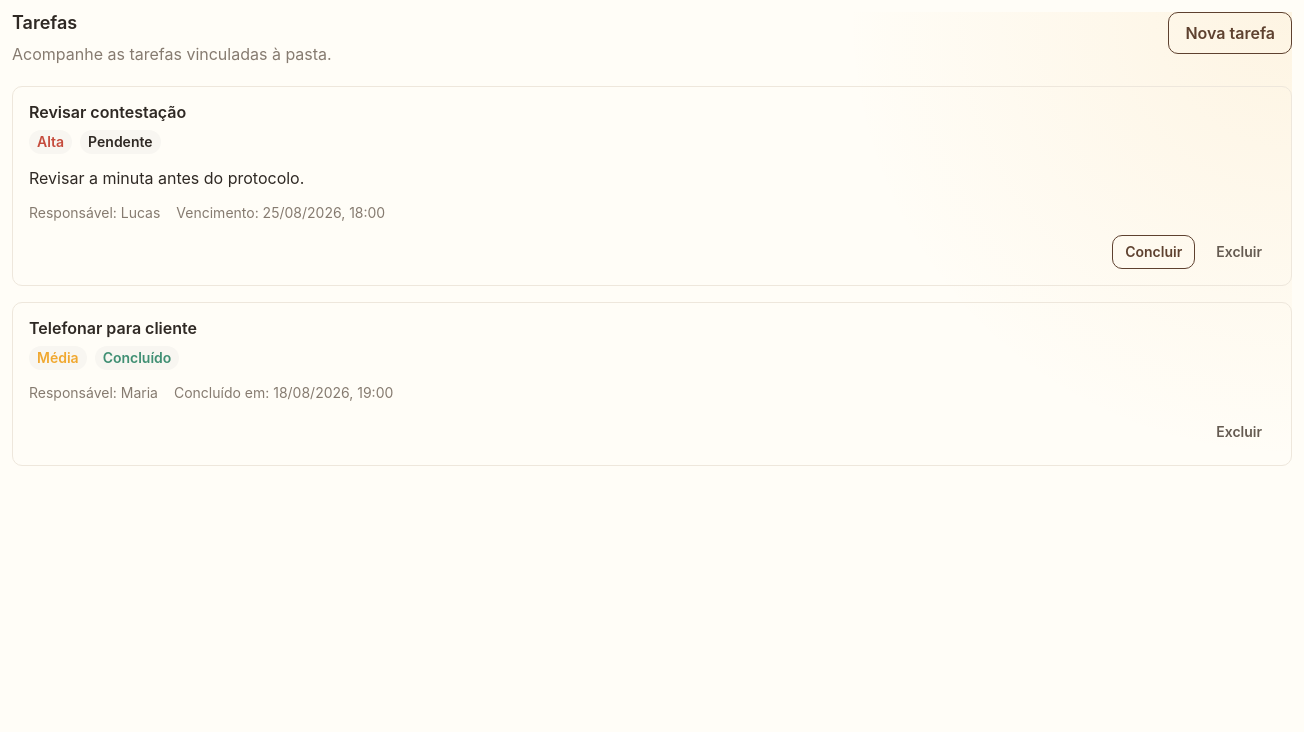
Test case: FolderTasks › exibe erro quando criação da tarefa falha
Click the button "Nova tarefa": (1230,33) [1168,12,1292,54]
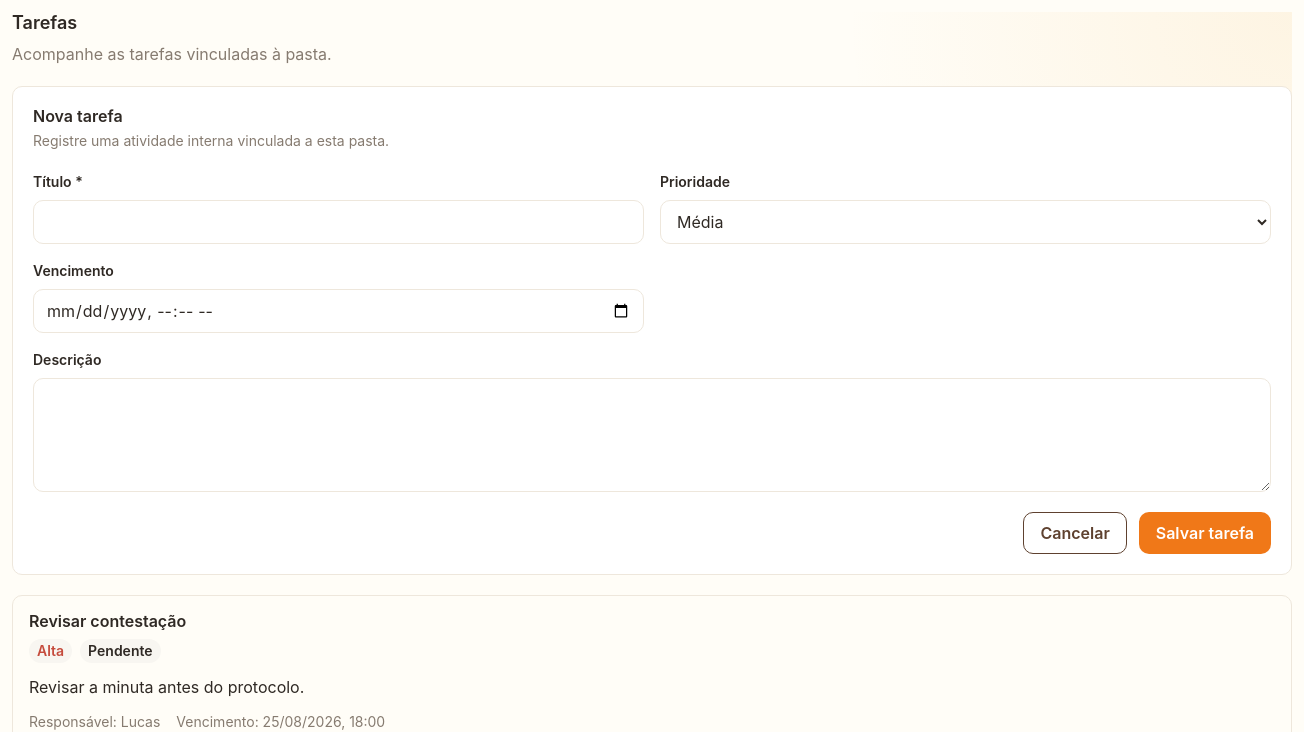
In the field named "title": (338,222) [33,200,644,244], type "Preparar recurso"
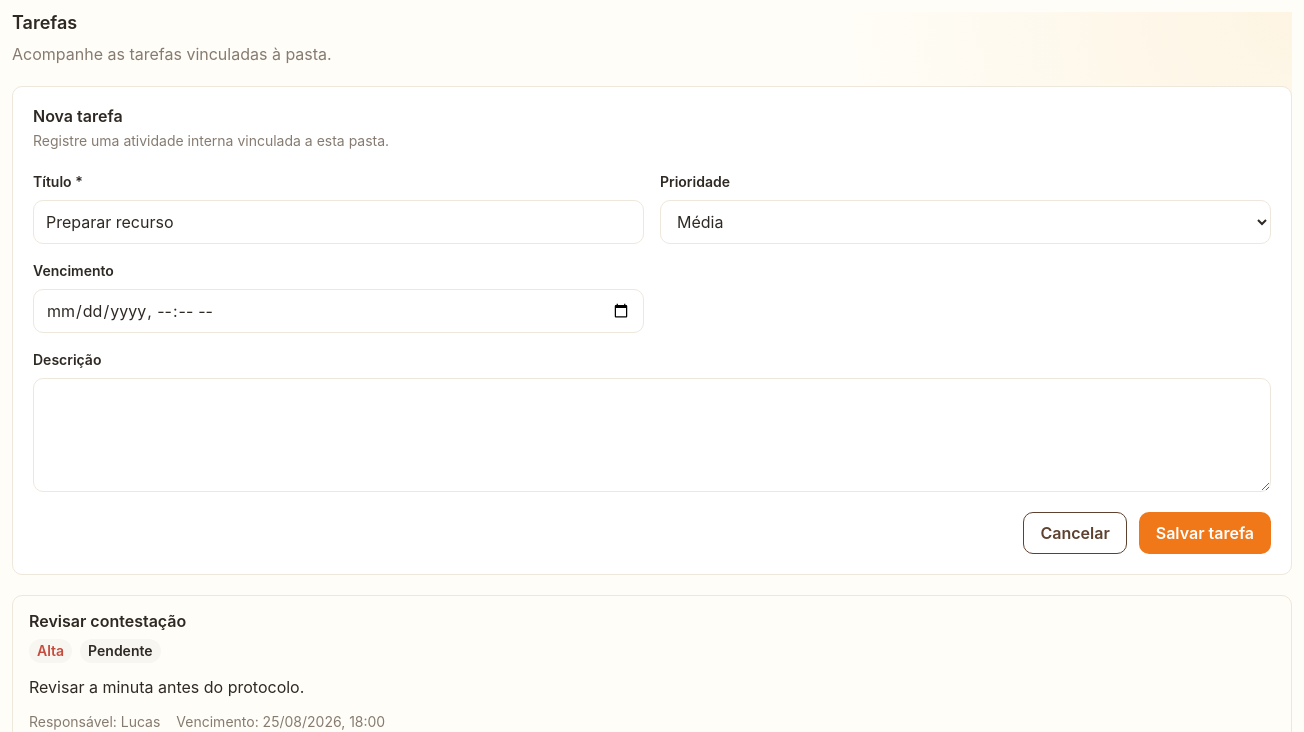
Select "Alta" in the dropdown named "priority": (966,222) [660,200,1271,244]
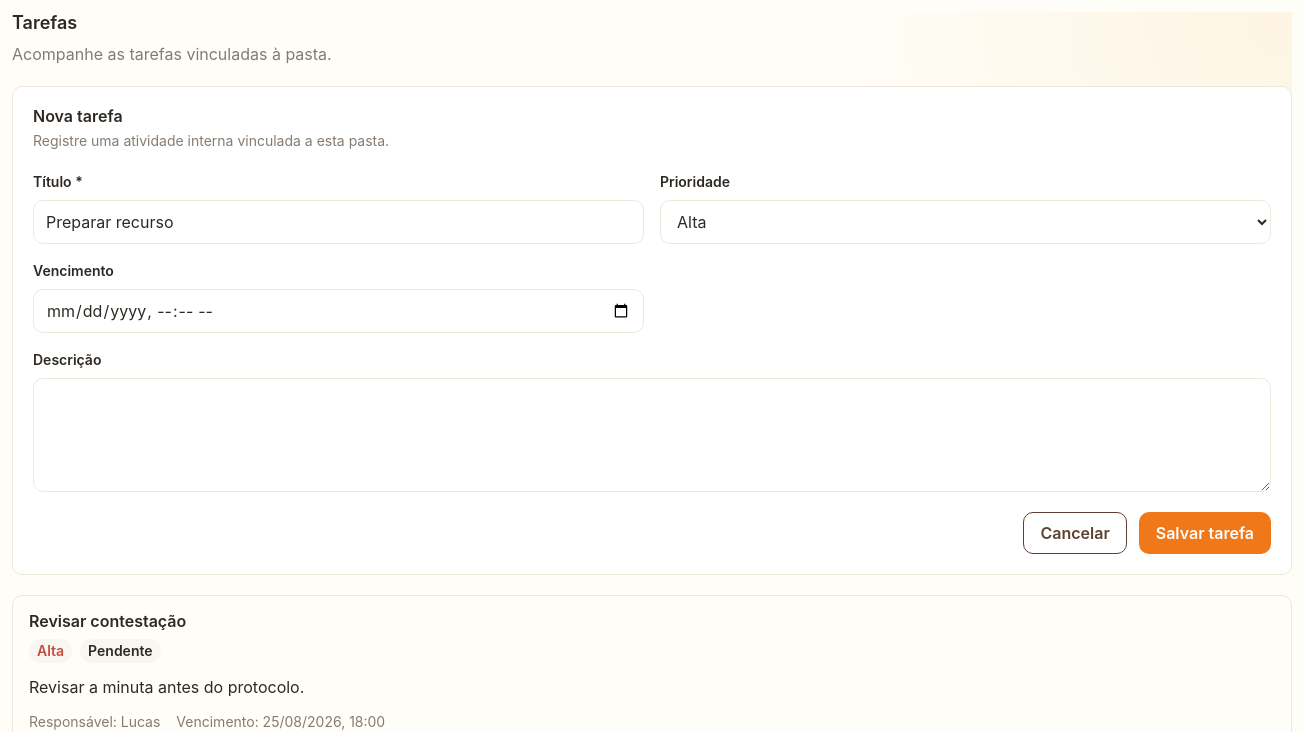
Submit the form
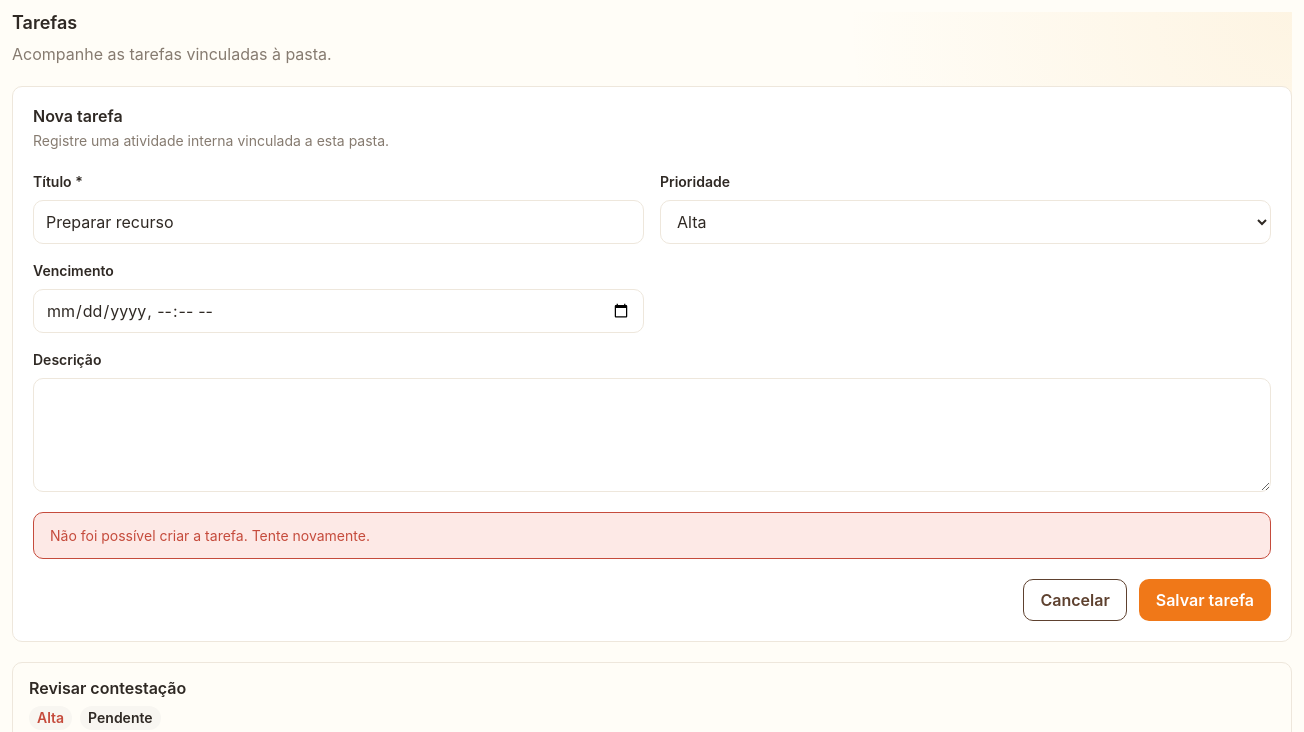
Check: the form is shown
Check: the text "Não foi possível criar a tarefa. Tente novamente." is shown, box [33,512,1271,559]
